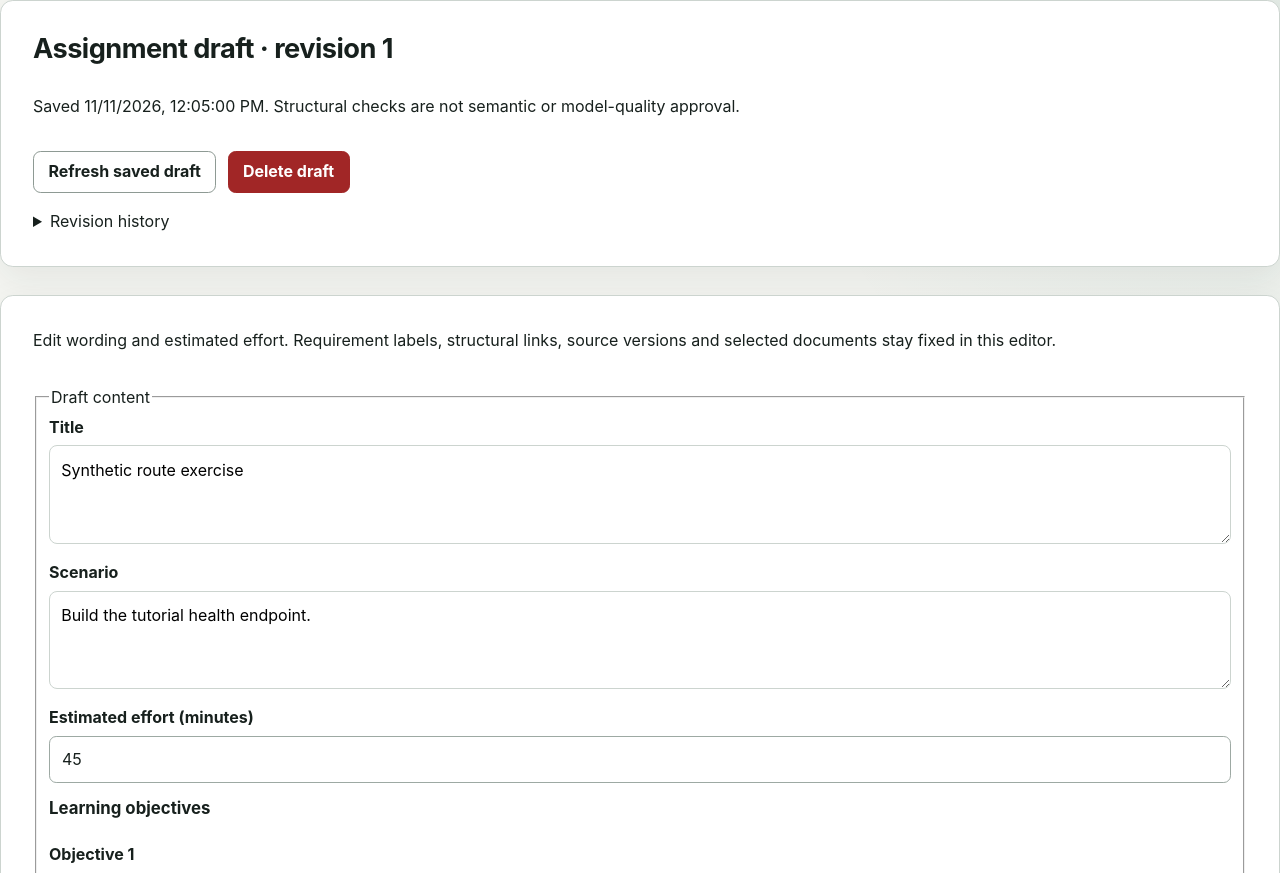
Test: draft review and conflict-safe editing › clears text when a saved receipt's live draft has disappeared
Replace the text in the text box labelled "Title" with "Edited route exercise": [640, 495] box [49,446,1231,544]
(page scrolled)
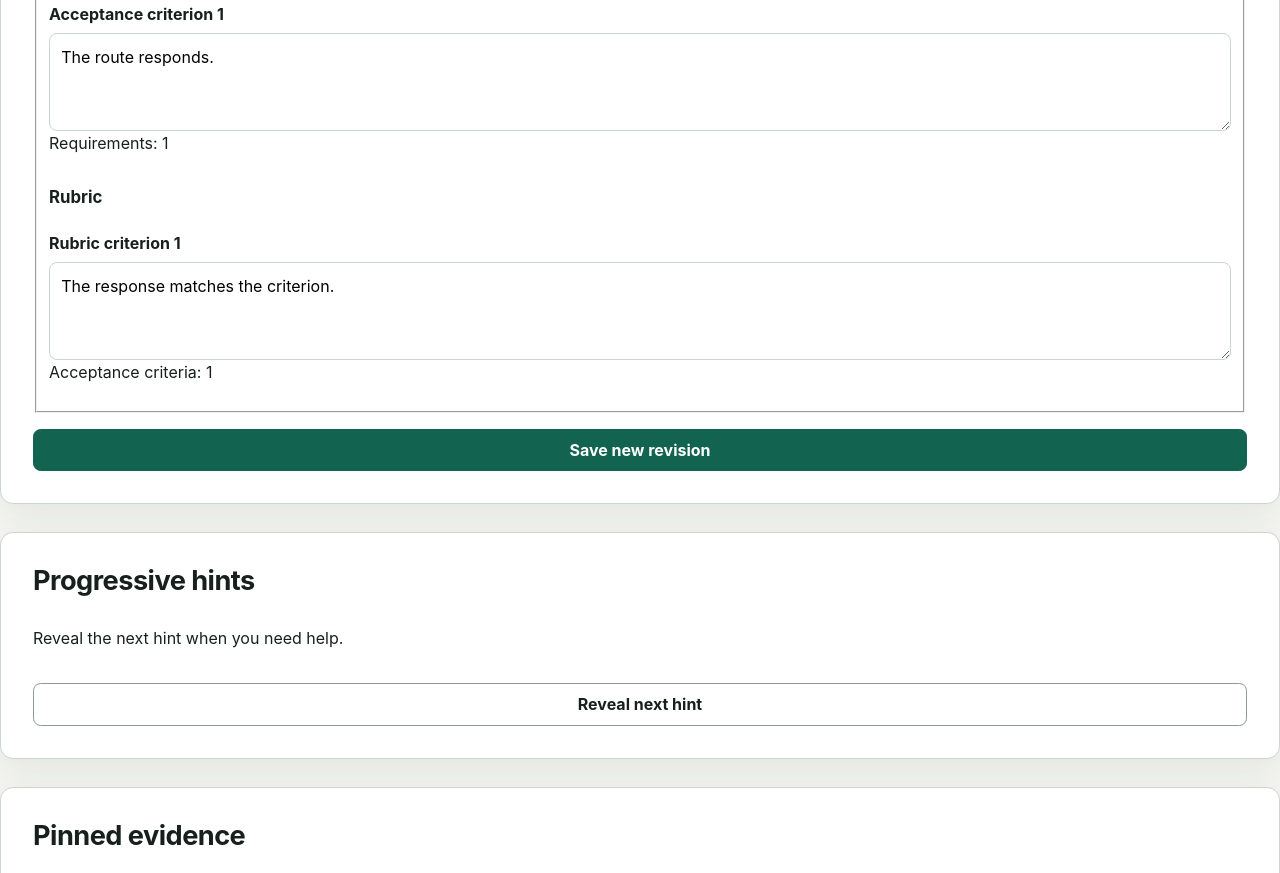
Click the button "Save new revision": [640, 450] box [33,429,1247,472]
(page scrolled)
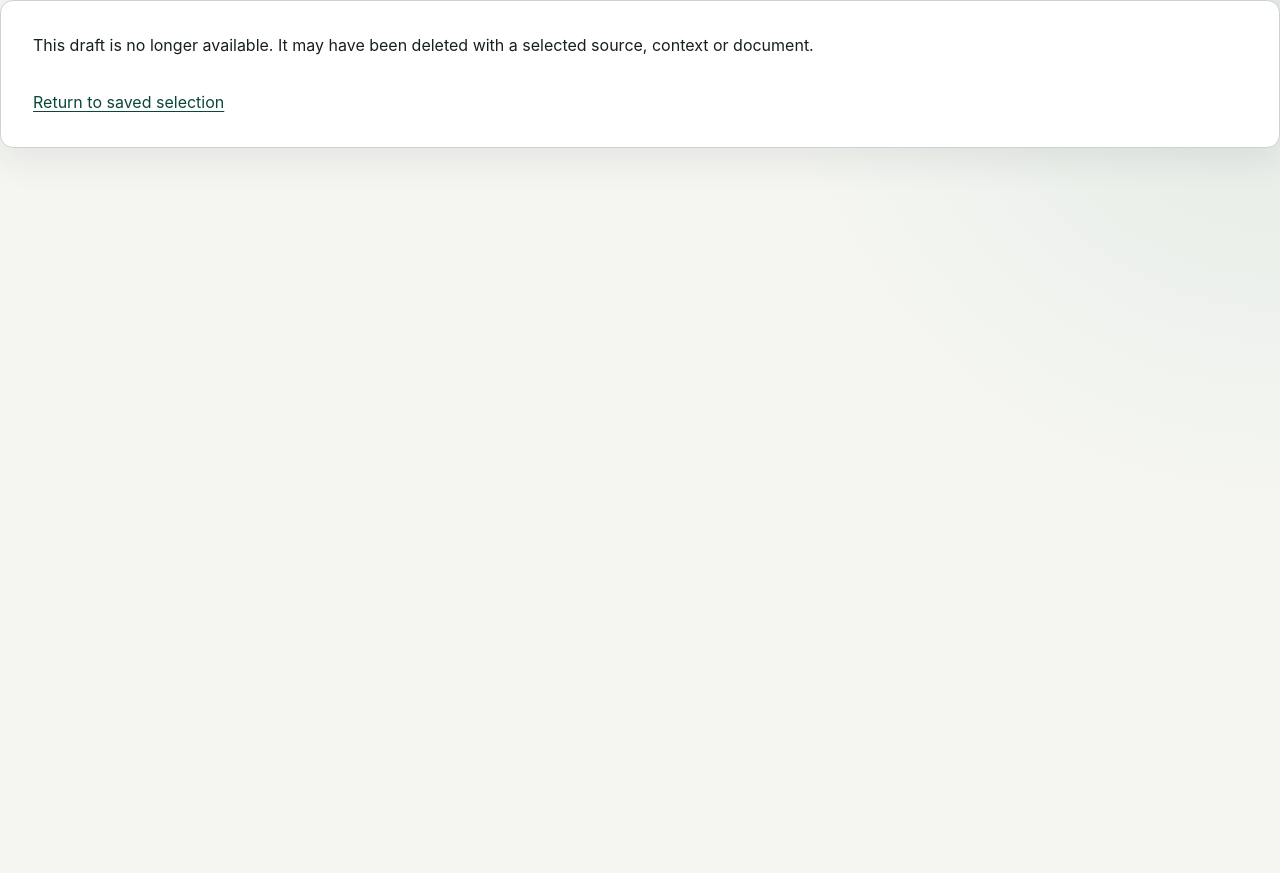
Expected: the text "This draft is no longer available" is shown, [33,35,814,55]
